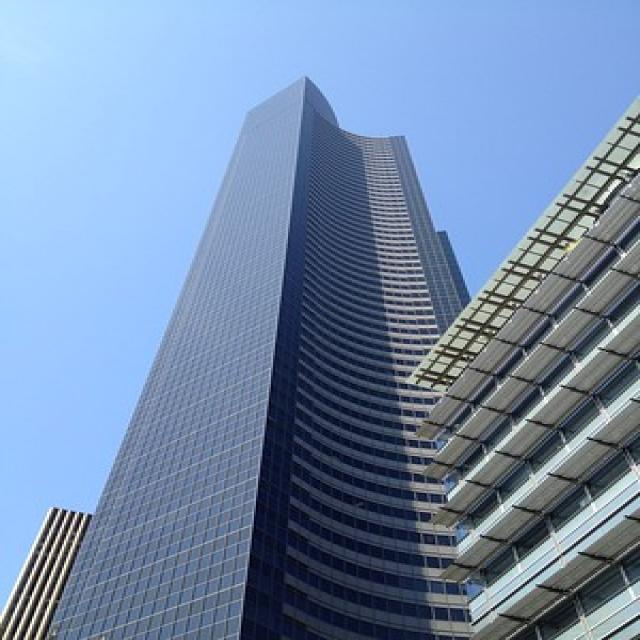Normal_building: (47, 72, 493, 640)
